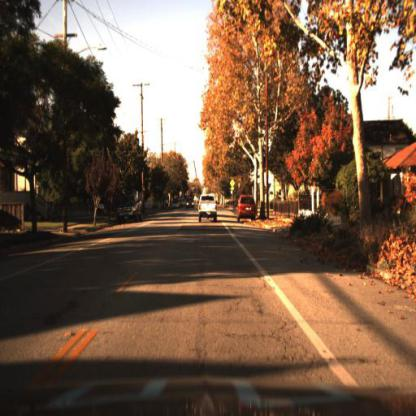car: (118, 193, 148, 225), (199, 195, 218, 226), (238, 190, 257, 221), (186, 200, 198, 212)
